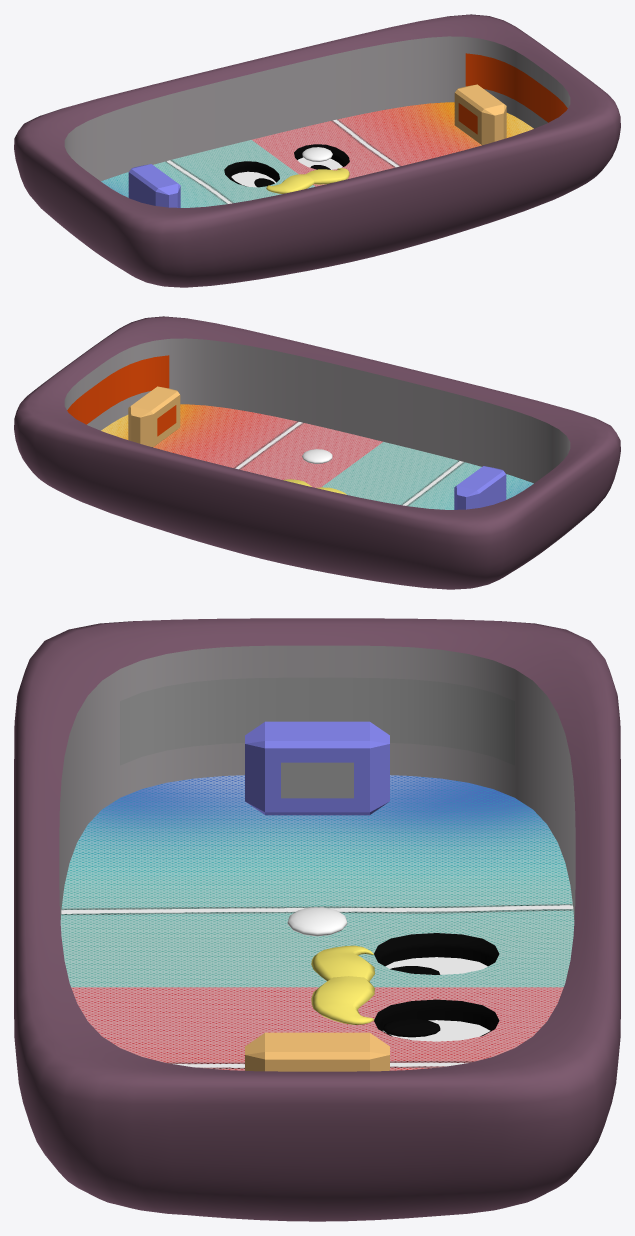
The model's file is Arena Ping Pong.fbx.
3 views of the same model, one above another, from view 1: azimuth 30°, elevation 25°; view 2: azimuth 150°, elevation 25°; view 3: azimuth 270°, elevation 25° (orthographic). The views are drawn at different scales.
Parts seen in each view (by area): view 1: Arena_Pong, Player_2, Player_1; view 2: Arena_Pong, Player_2, Player_1; view 3: Arena_Pong, Player_1, Player_2, Ball, L_Eye.
Part boxes in pixels (x1,y1,x2,y2): Arena_Pong: [14, 14, 620, 287]; Player_2: [454, 84, 506, 145]; Player_1: [128, 164, 180, 207]; Arena_Pong: [14, 316, 620, 589]; Player_2: [128, 386, 180, 447]; Player_1: [454, 466, 506, 509]; Arena_Pong: [14, 618, 620, 1221]; Player_1: [245, 721, 389, 815]; Player_2: [245, 1032, 389, 1071]; Ball: [287, 907, 347, 936]; L_Eye: [383, 1019, 440, 1037].
Size of the model in its own units: 70.88 by 16.21 by 38.57.
Materials: 12 (2 with a texture image).
